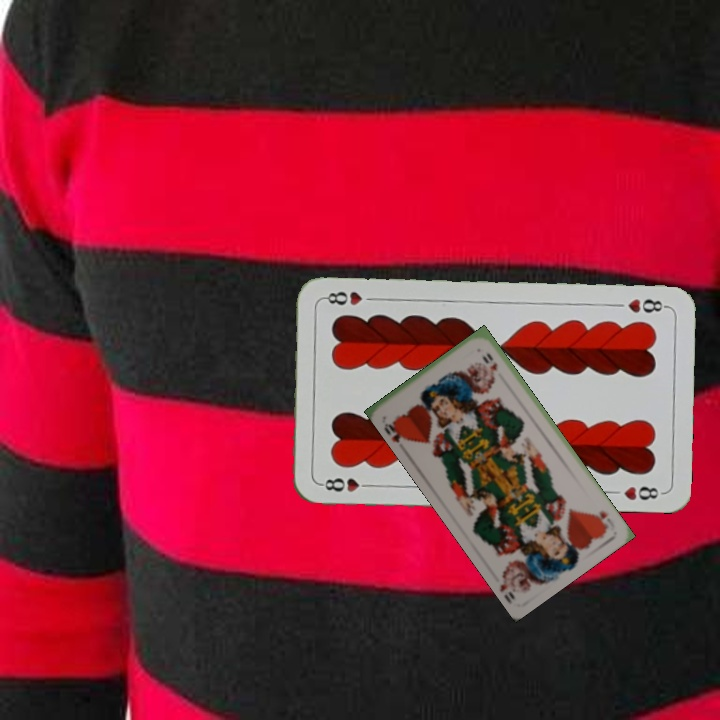H8: (316, 474, 375, 494), (624, 295, 670, 316)
HO: (380, 417, 412, 446), (595, 506, 611, 534)
